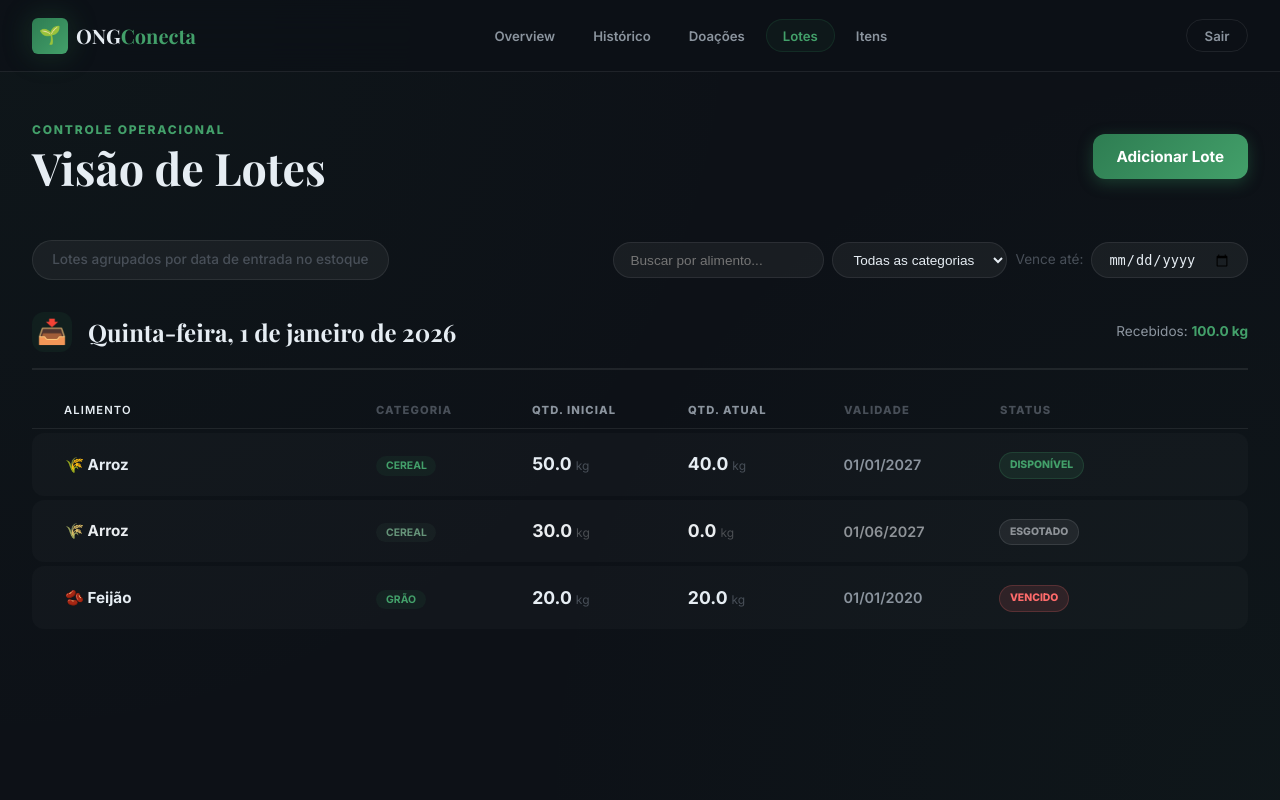
BatchesPage — modal de novo lote › abre o modal ao clicar em "Adicionar Lote"
Click the button "Adicionar Lote" at (1170, 156), box [1092,134,1248,178]
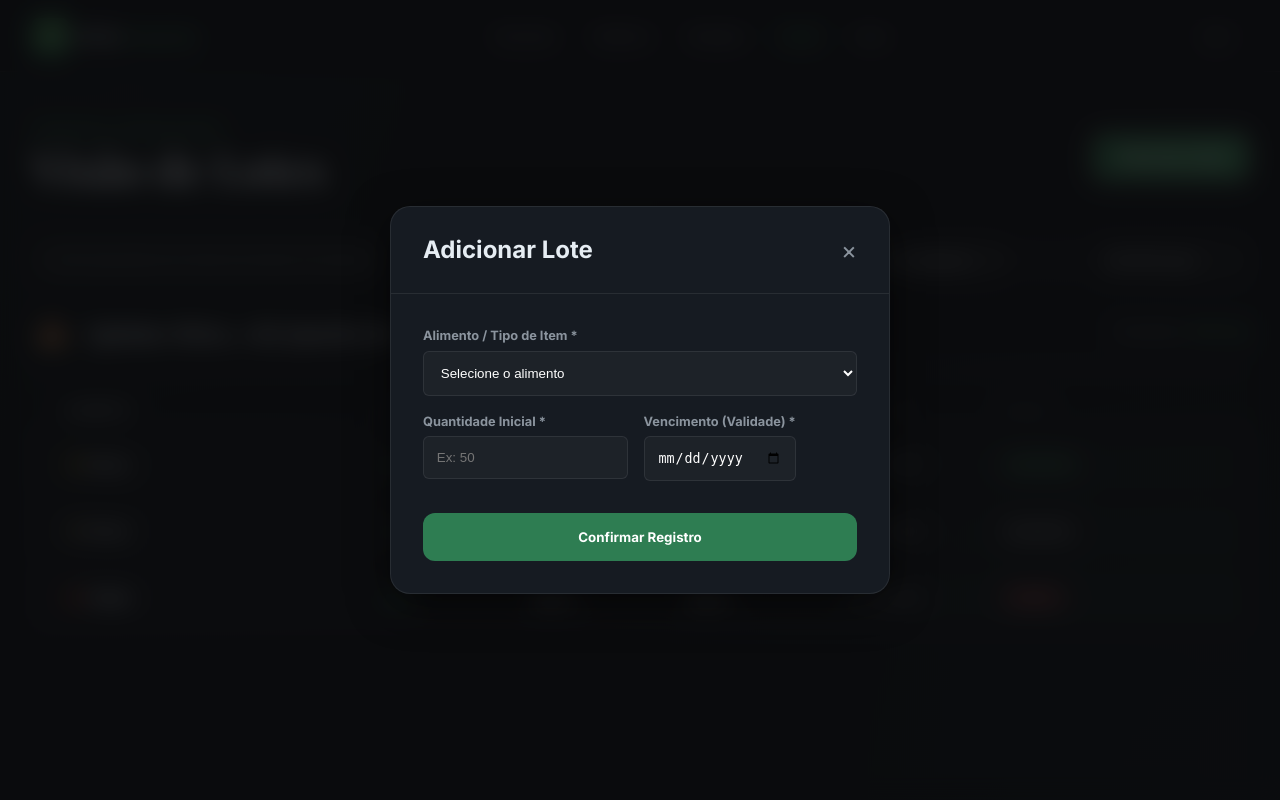
Expected: the heading "Adicionar Lote" is shown, [423,231,593,270]
Expected: the dropdown labelled "Alimento / Tipo de Item *" is shown, [423,351,857,396]
